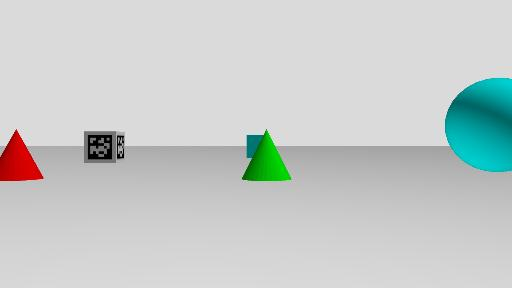green_cone: (239, 129, 291, 182)
red_cone: (1, 130, 45, 181)
